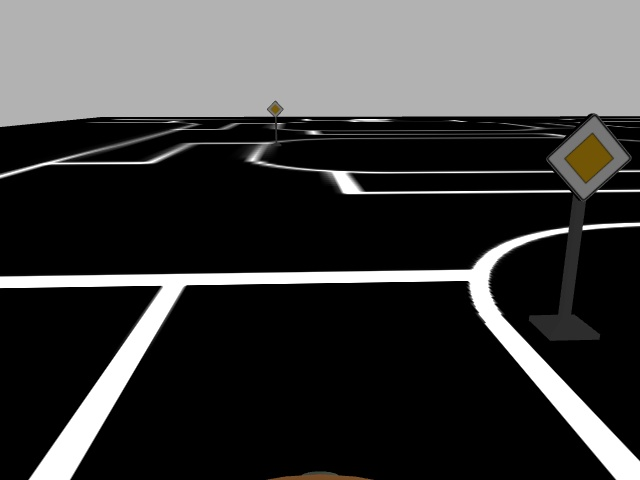priority: (544, 108, 631, 203), (265, 100, 285, 117)
